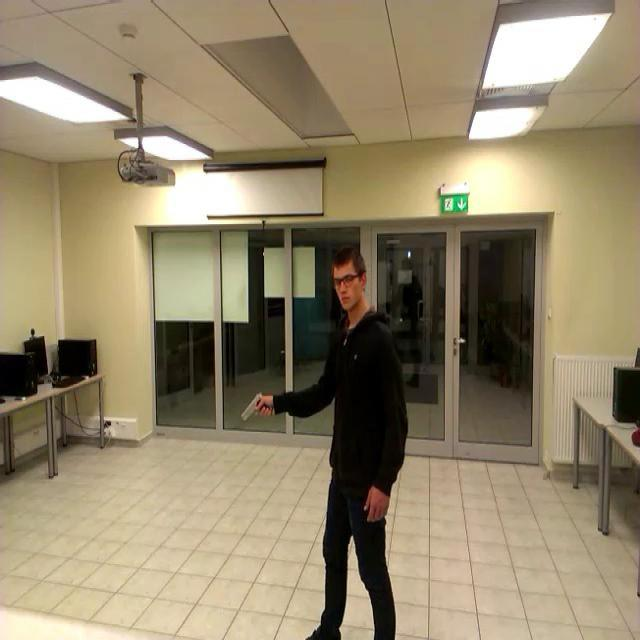weapon: (237, 396, 274, 419)
